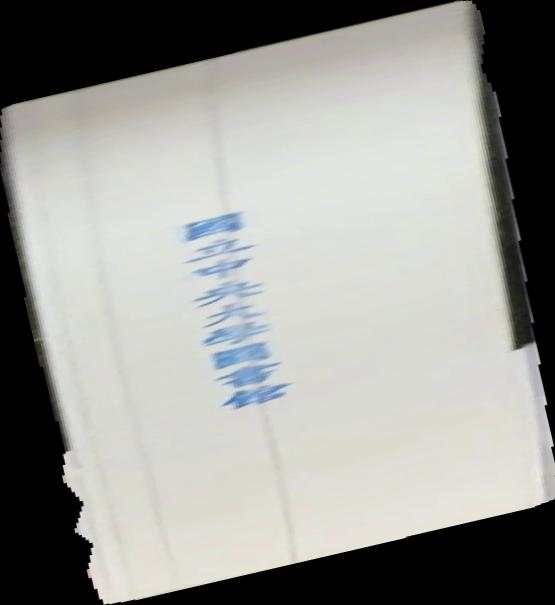backward: (1, 1, 555, 605)
